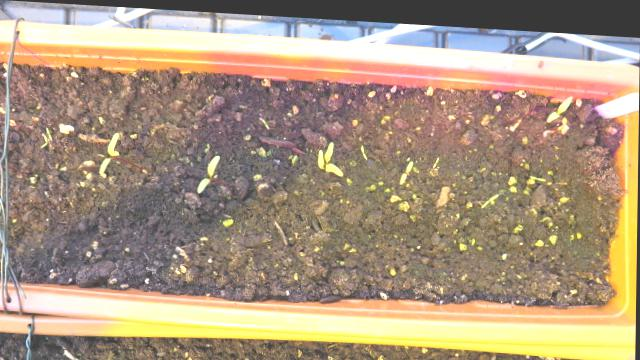crop: (95, 128, 121, 176), (194, 149, 221, 191), (395, 152, 415, 181)
weed: (356, 139, 371, 157)
